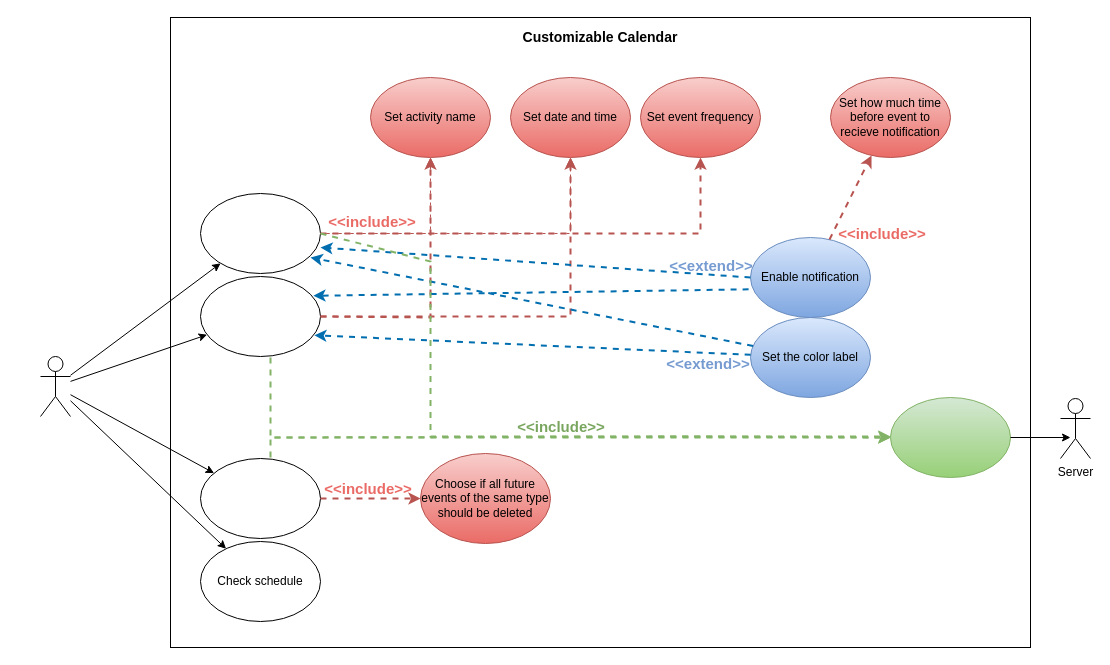
Image size: 1110x665. Some labels were removed from this diagram. The centre of each missing label's shape, as x and y in pixels:
"Add an extra activity" goes at point 260,233.
"Delete an activity" goes at point 260,498.
"Edit an extra activity" goes at point 260,316.
"FEUP Student" goes at point 55,386.
"Synchronize data" goes at point 950,437.
